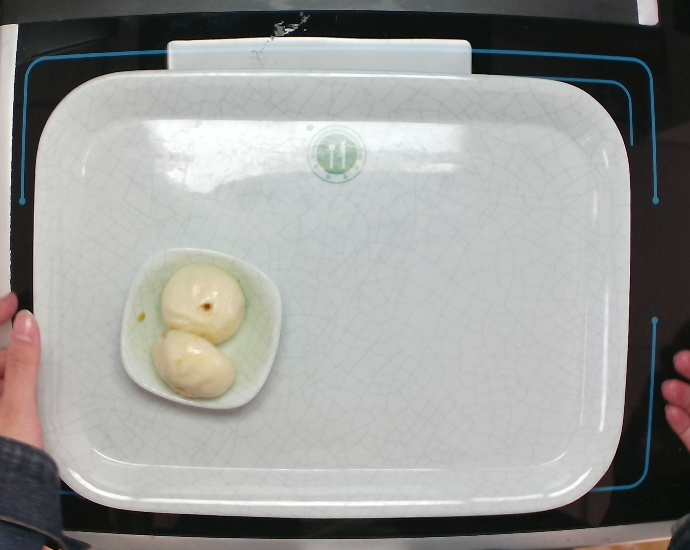JYsf-Si_Fang_Die: (117, 238, 288, 417)
